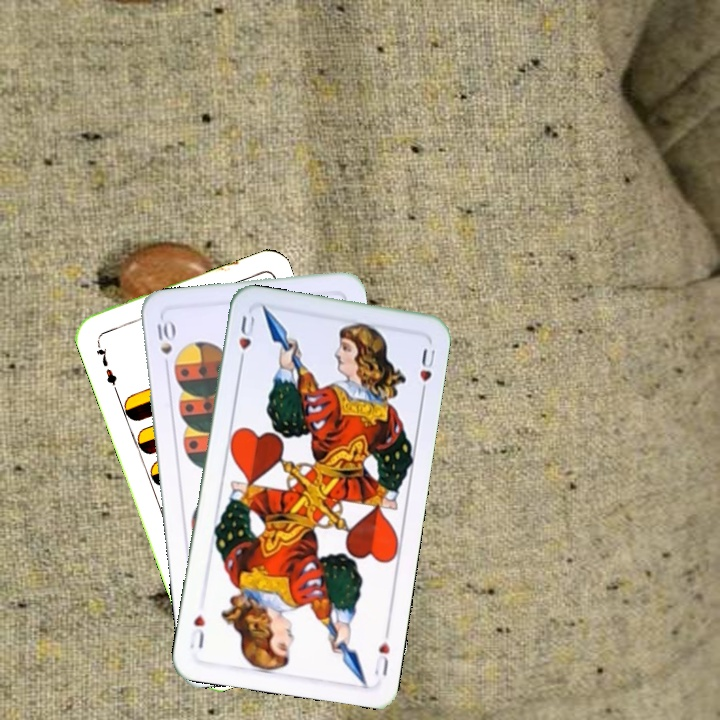E7: (92, 337, 120, 394)
HU: (234, 312, 258, 368), (370, 637, 393, 679)
S10: (153, 315, 176, 356)
